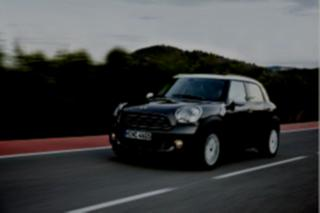mini: (135, 103, 150, 113)
